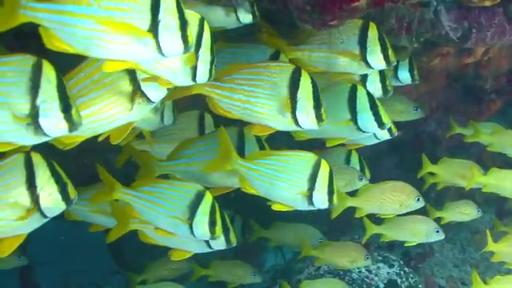Fish: (0, 0, 193, 63), (168, 61, 325, 135), (205, 128, 336, 211), (52, 59, 167, 148), (92, 166, 222, 239), (108, 11, 215, 87), (0, 152, 76, 257), (0, 54, 81, 151), (260, 20, 395, 74), (107, 204, 236, 260), (132, 130, 240, 195), (292, 84, 391, 146), (0, 152, 76, 220), (128, 111, 215, 159), (332, 180, 424, 217), (119, 100, 177, 145), (64, 183, 116, 231), (316, 146, 370, 192), (363, 216, 444, 245), (417, 155, 484, 189), (0, 213, 51, 257), (249, 221, 326, 250), (184, 1, 259, 30), (312, 71, 392, 97), (216, 41, 287, 70), (300, 241, 371, 269), (192, 260, 262, 287), (316, 146, 371, 179), (129, 256, 191, 283), (134, 101, 178, 137), (464, 124, 511, 156), (344, 124, 399, 149), (427, 200, 482, 224), (380, 93, 425, 122), (468, 168, 511, 198), (447, 117, 504, 136), (388, 56, 419, 86), (483, 231, 511, 255), (472, 270, 511, 287), (0, 252, 28, 270), (299, 278, 349, 287), (460, 0, 500, 7), (494, 219, 511, 234), (136, 282, 184, 287)
